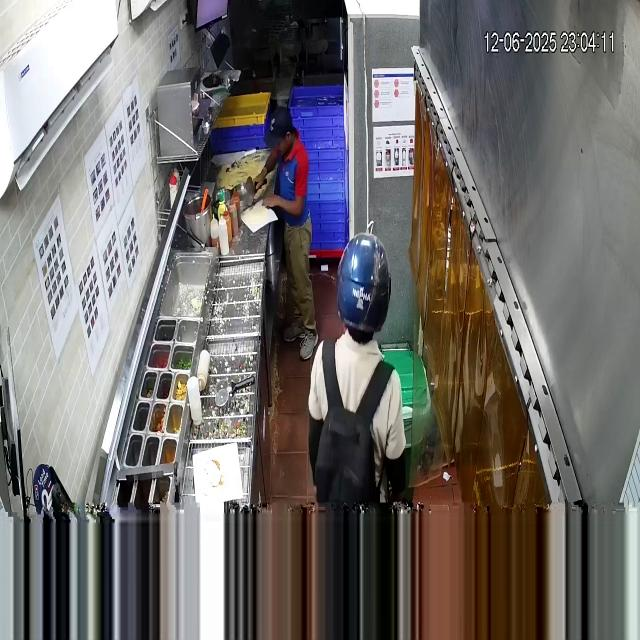helmet: (336, 232, 391, 344)
no_helmet: (264, 105, 296, 155)
